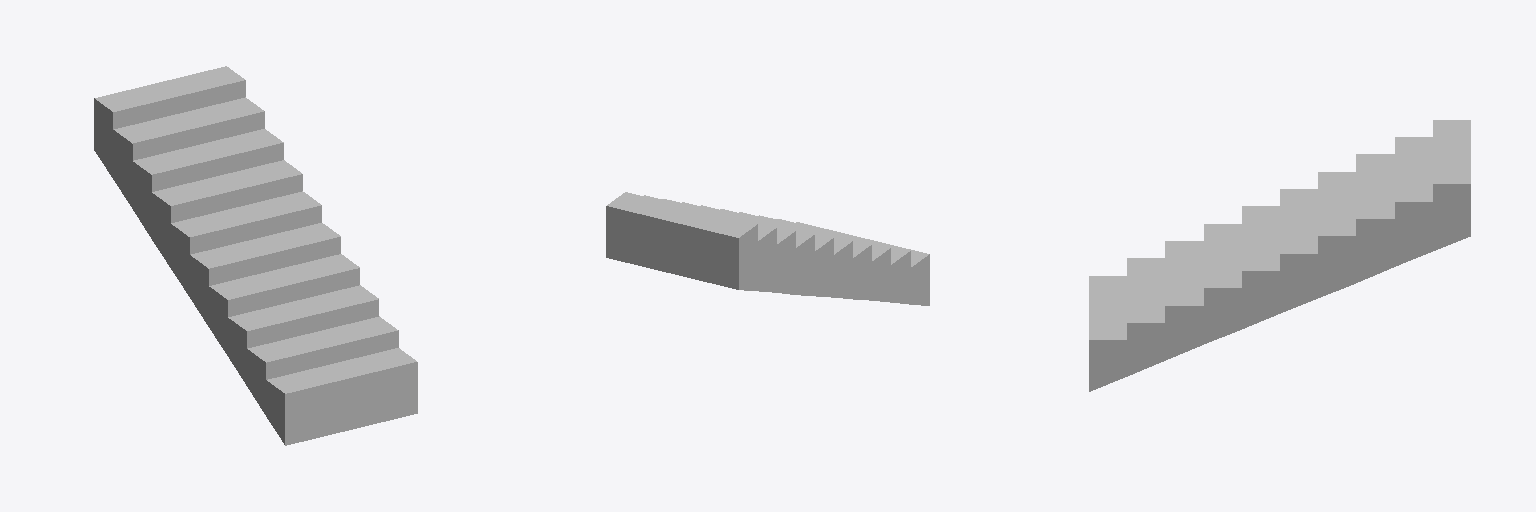
Rendered from Stairs (18).obj.
The picture shows the model from 3 angles: view 1: azimuth 30°, elevation 25°; view 2: azimuth 150°, elevation 25°; view 3: azimuth 270°, elevation 25°; orthographic projection.
Parts seen in each view (by area): view 1: Stairs (18); view 2: Stairs (18); view 3: Stairs (18).
Boxes of the visible parts, x1=… form: Stairs (18): x1=94, y1=66, x2=417, y2=445; Stairs (18): x1=606, y1=192, x2=929, y2=305; Stairs (18): x1=1089, y1=120, x2=1470, y2=391.
Size of the model in its own units: 2 by 3 by 5.